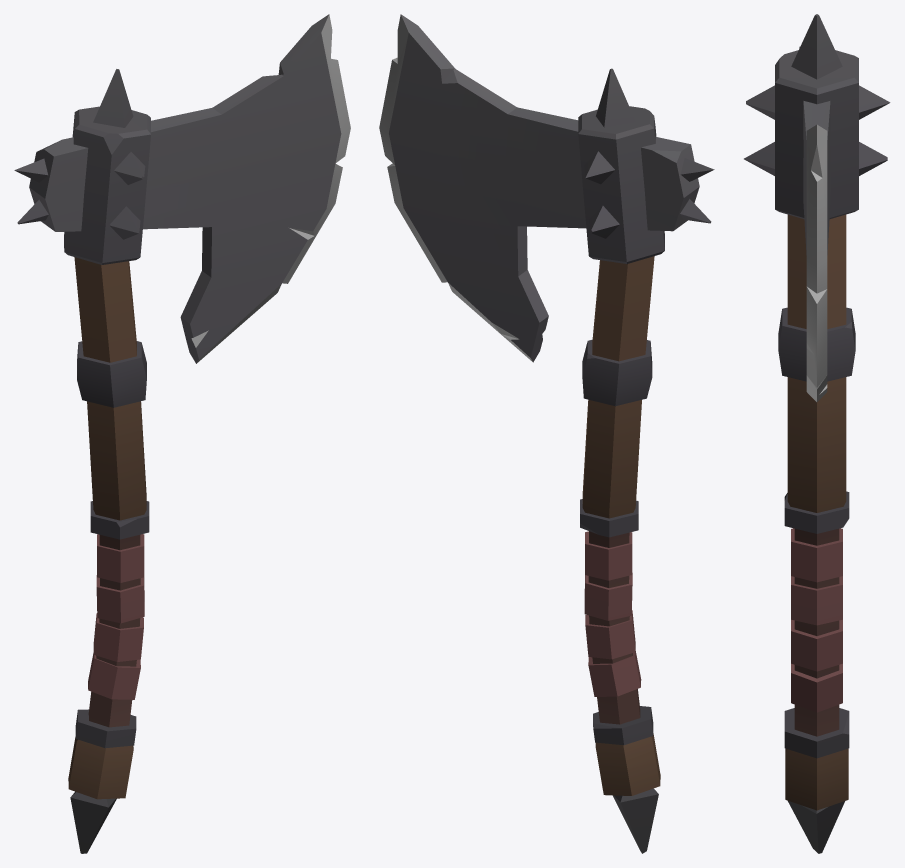
File: Axe_01.glb
3 views of the same model, side by side, from view 1: azimuth 30°, elevation 25°; view 2: azimuth 150°, elevation 25°; view 3: azimuth 270°, elevation 25° (orthographic). The views are drawn at different scales.
Visible parts, largest first — view 1: Ax_01; view 2: Ax_01; view 3: Ax_01.
Boxes of the visible parts, bbox=[...] form: Ax_01: bbox=[14, 14, 350, 853]; Ax_01: bbox=[379, 14, 714, 853]; Ax_01: bbox=[744, 14, 890, 853].
Size of the model in its own units: 0.382 by 0.8473 by 0.1317.
1 material, 1 textured.
